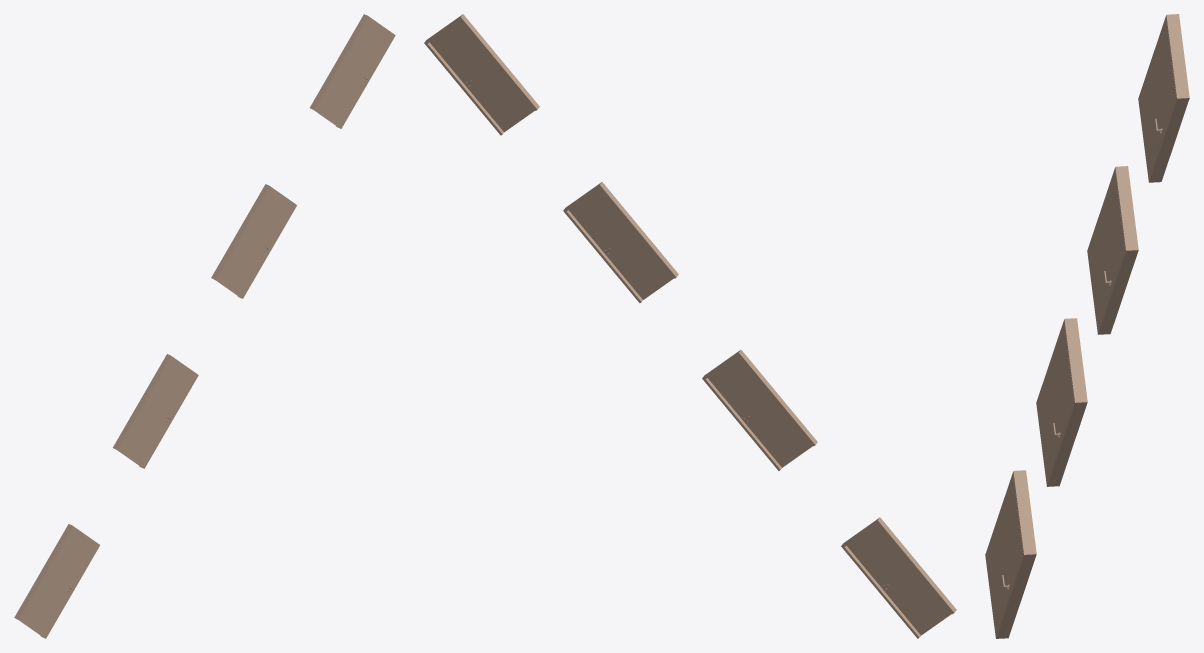
3 renders of one model, left to right at view 1: azimuth 30°, elevation 25°; view 2: azimuth 150°, elevation 25°; view 3: azimuth 270°, elevation 25°, orthographic. The views are drawn at different scales.
Visible parts, largest first — view 1: mesh; view 2: mesh; view 3: mesh.
Part boxes in pixels (left/top/right/bottom): mesh: left=14, top=14, right=395, bottom=638; mesh: left=424, top=14, right=956, bottom=638; mesh: left=985, top=14, right=1189, bottom=638.
Size of the model in its own units: 9.27 by 10.39 by 1.98.
